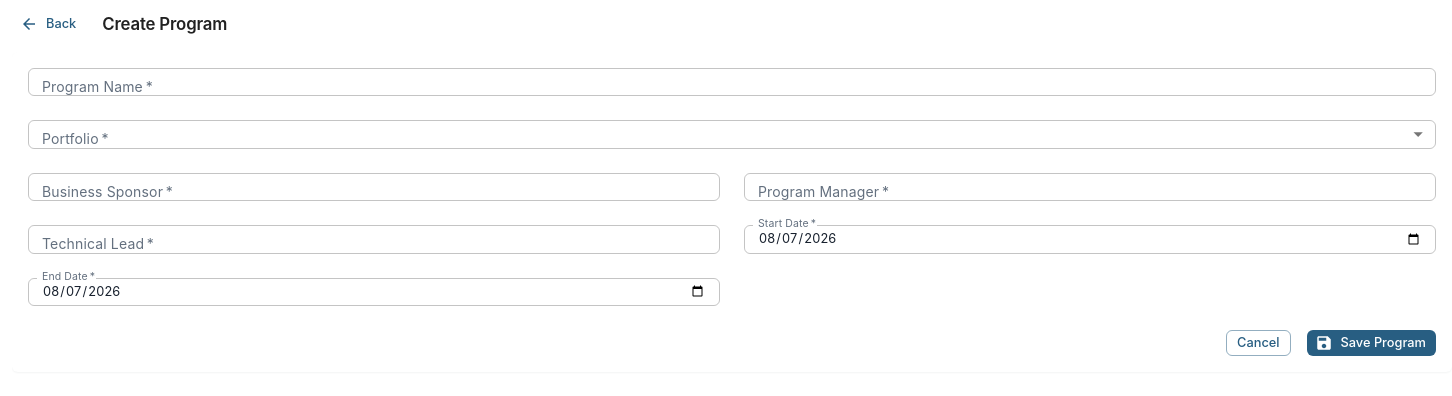
it: ProgramFormPage › should validate portfolio selection required
In the field labelled "Program Name *": (732, 82) [28,68,1436,96], type "Test Program"
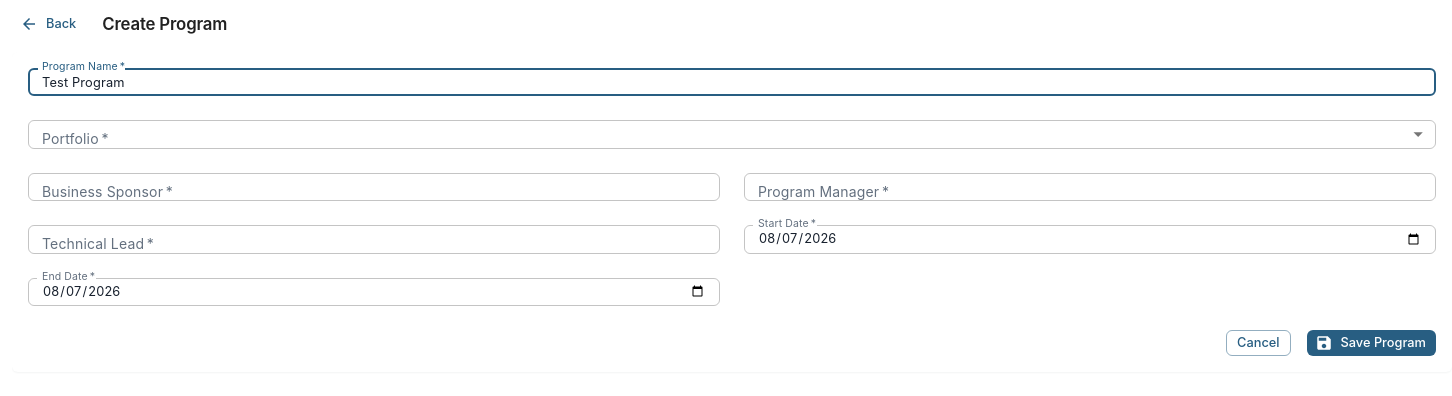
In the field labelled "Business Sponsor *": (374, 187) [28,173,720,201], type "Test Sponsor"
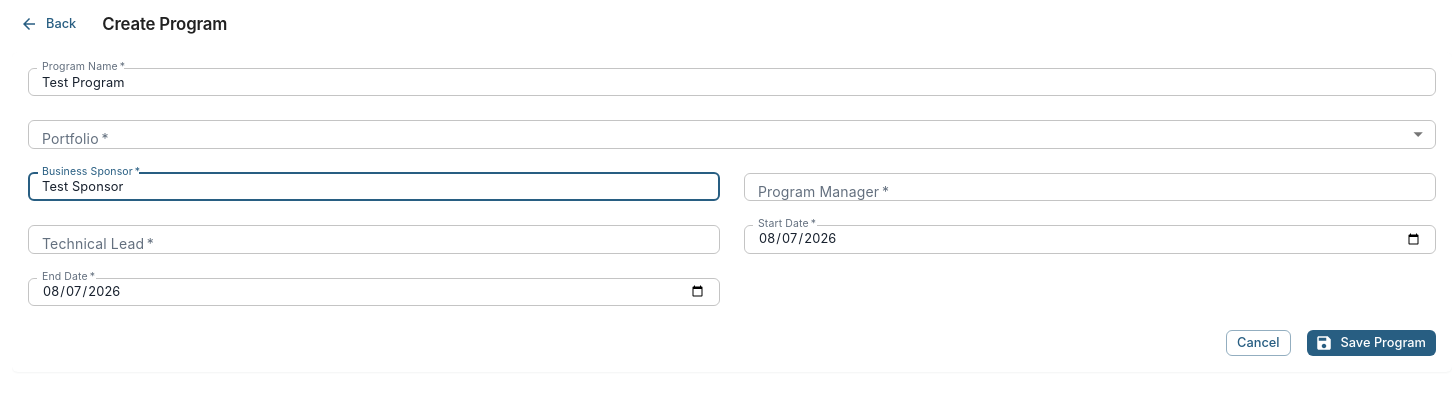
In the field labelled "Program Manager *": (1090, 187) [744,173,1436,201], type "Test Manager"
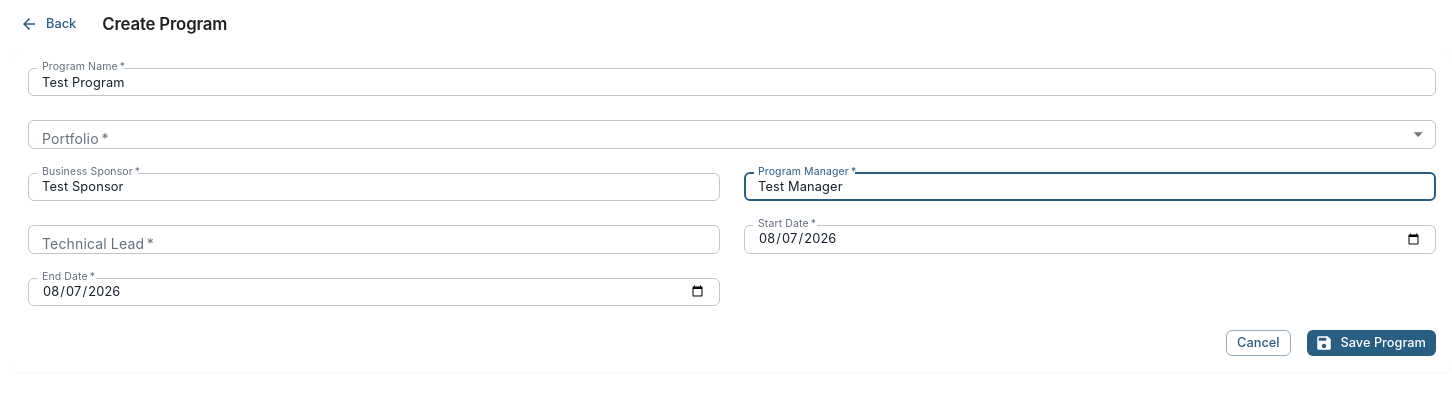
In the field labelled "Technical Lead *": (374, 239) [28,225,720,254], type "Test Lead"
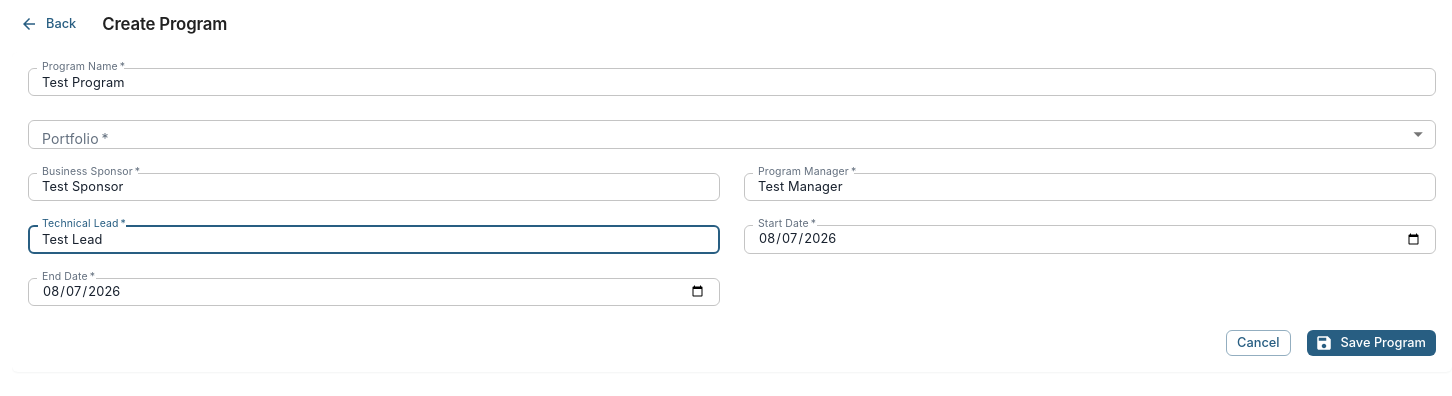
Try to submit without selecting portfolio
Click the button "Save Program": (1371, 343) [1306,330,1436,356]
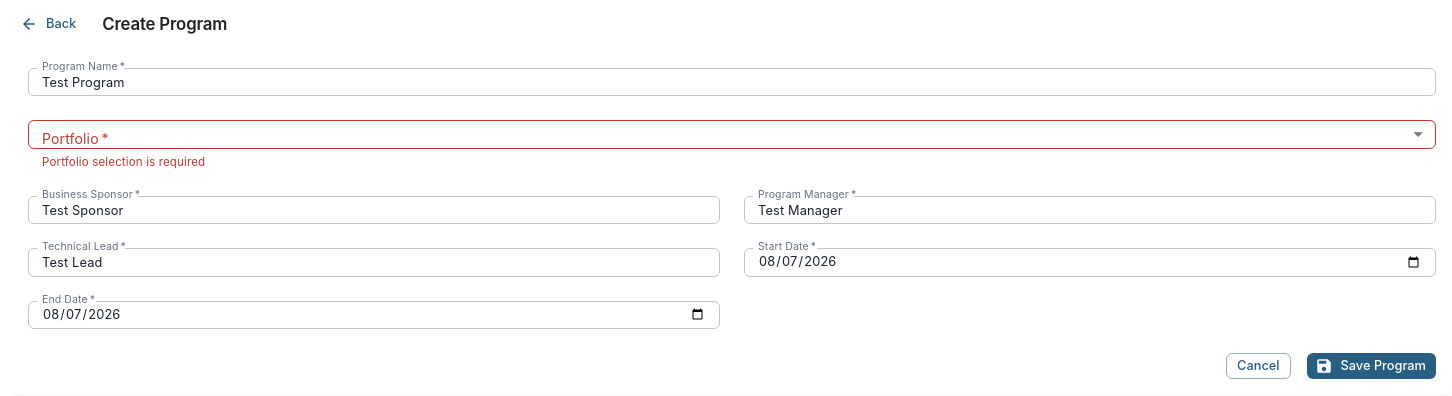
Expected: the text "Portfolio selection is required" is shown, [42,155,205,169]
